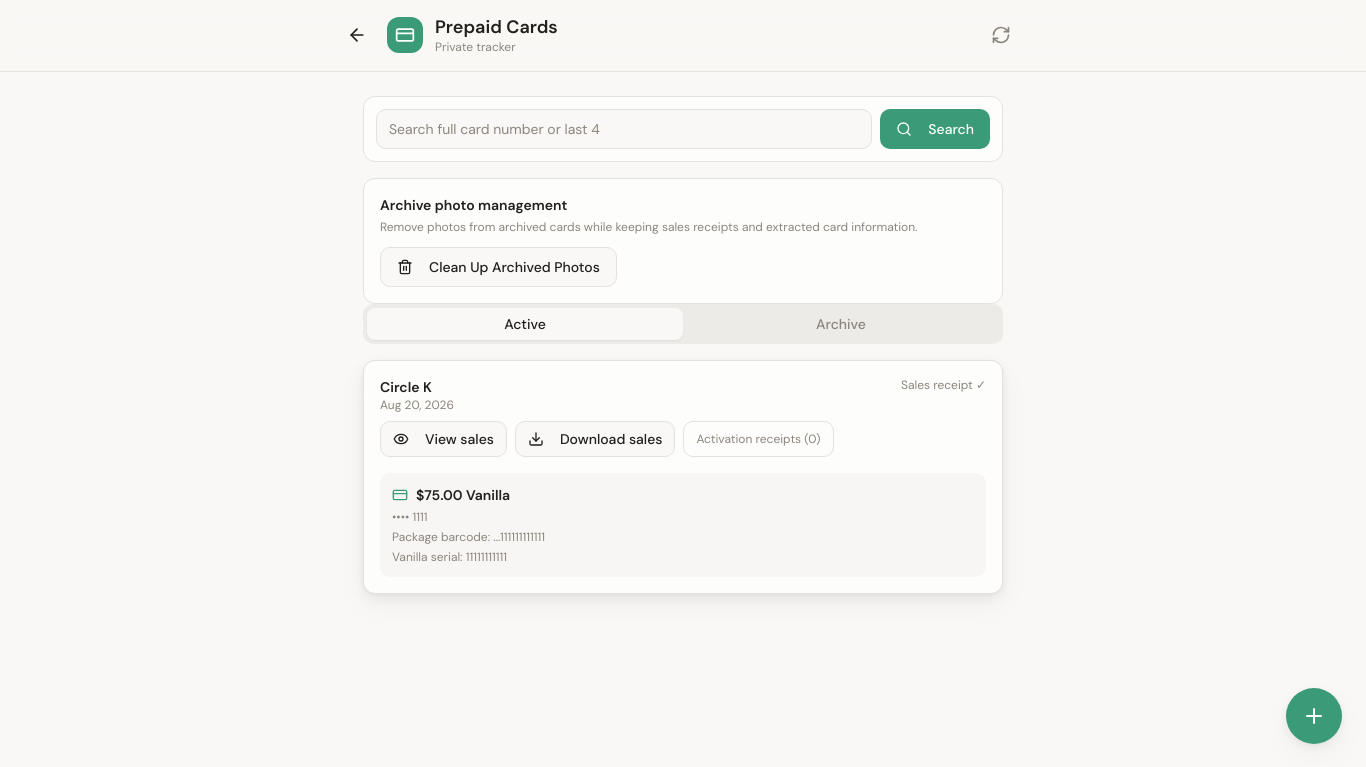
it: PrepaidCards › opens an archived result when the active purchase copy is loaded first
The width and height of the screenshot is (1366, 767).
Expected: the heading "Circle K" is shown, [380,378,432,396]
Step 1. Type "7777" into the field labelled "Search full card number or last 4" → {"x": 624, "y": 128}, box [376,108,872,148]
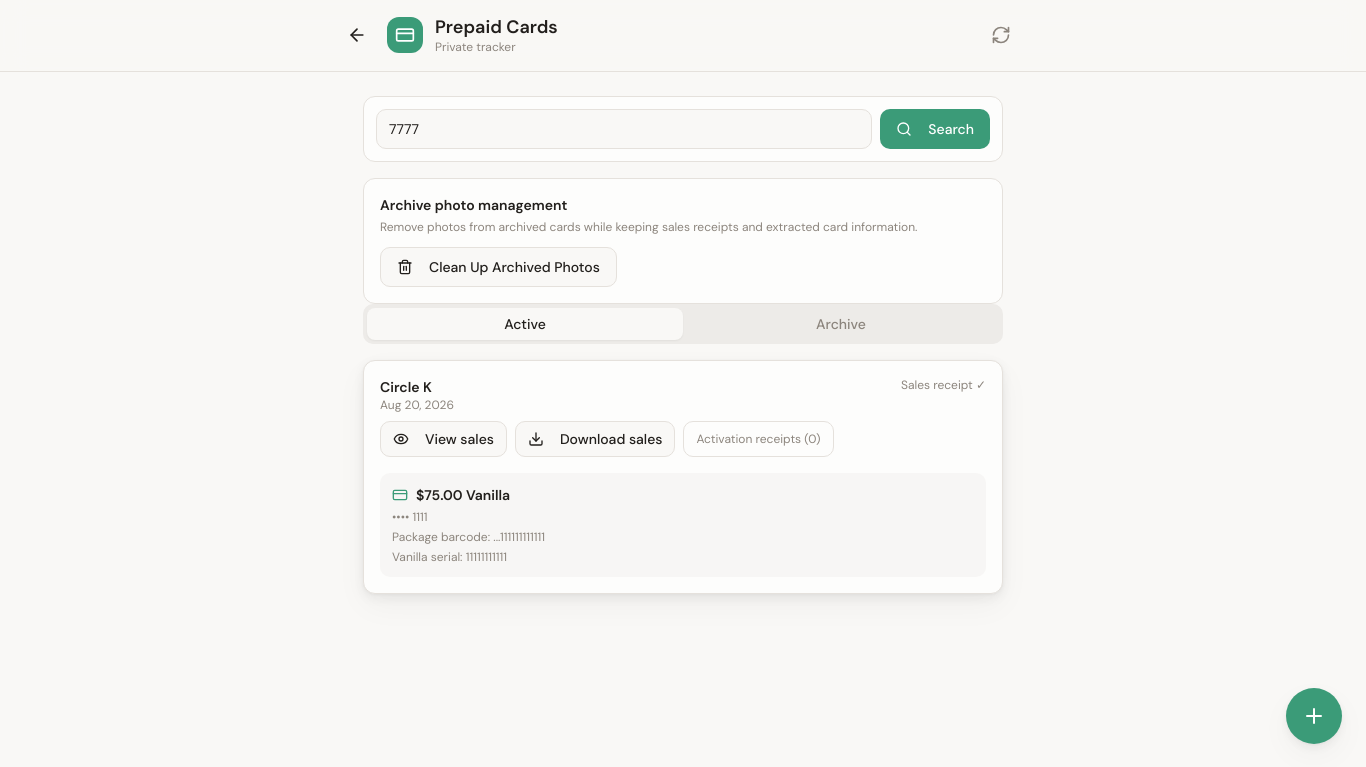
Step 2. Click the button "Search" → {"x": 935, "y": 128}, box [880,108,990,148]
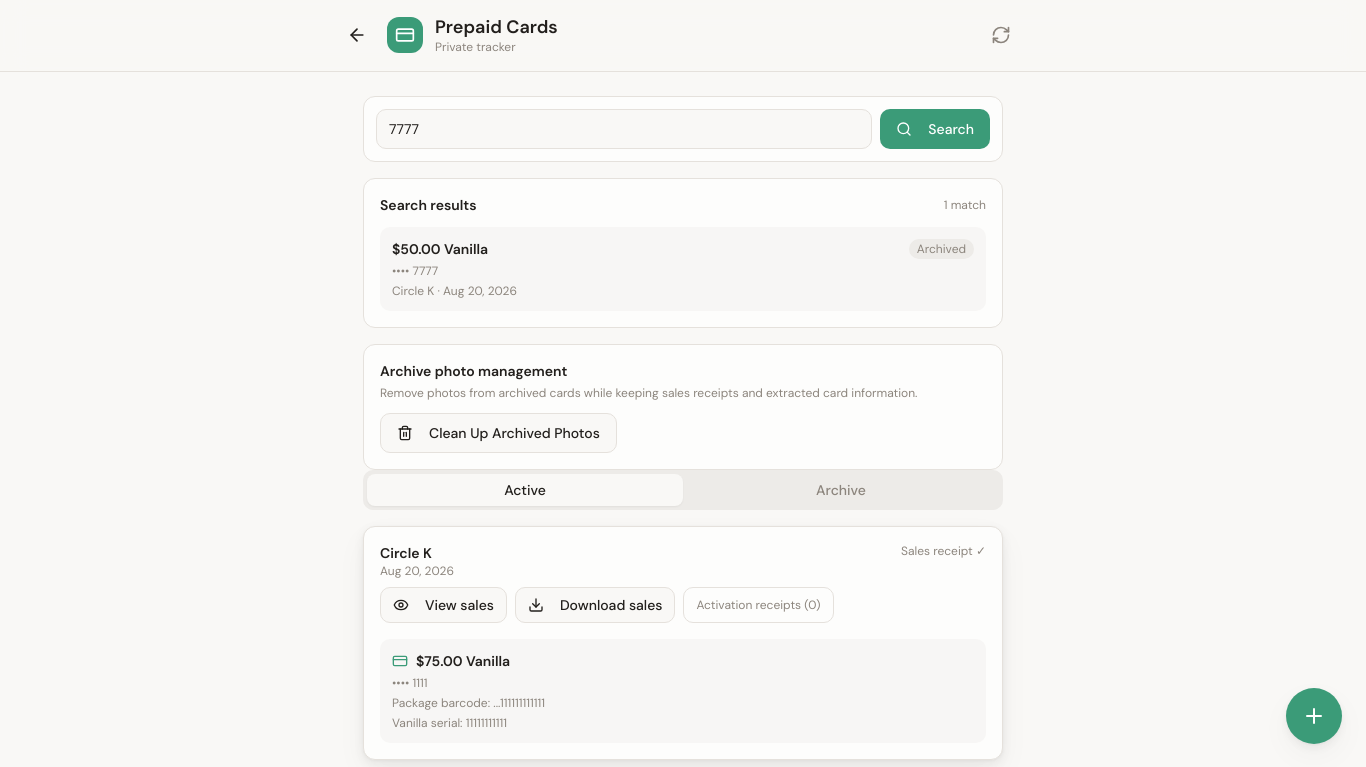
Now the button with aria-label "archived card ending 7777" is shown
Step 3. Click the button with aria-label "archived card ending 7777" → {"x": 420, "y": 248}, box [380,226,986,310]
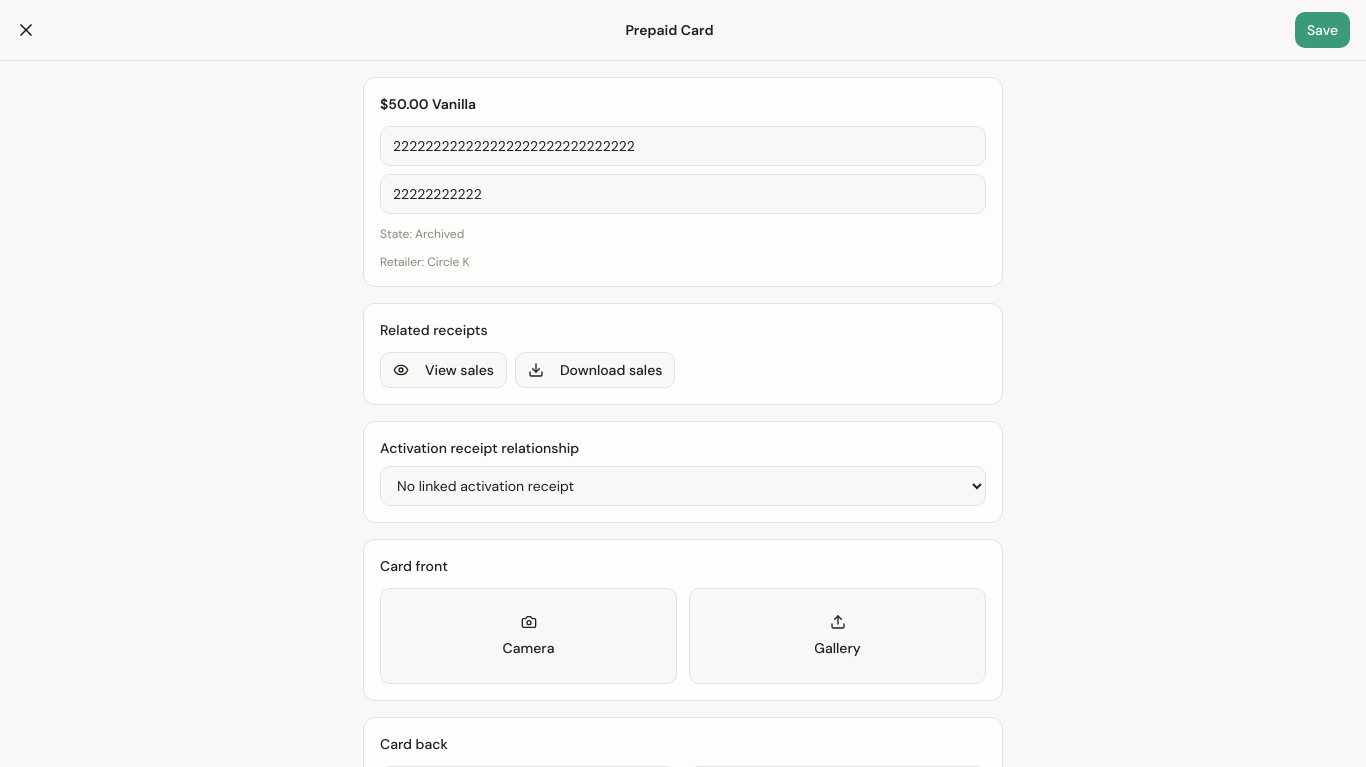
Now the field showing "22222222222" is shown, box [380,174,986,214]
Now the field showing "222222222222222222222222222222" is shown, box [380,126,986,166]
